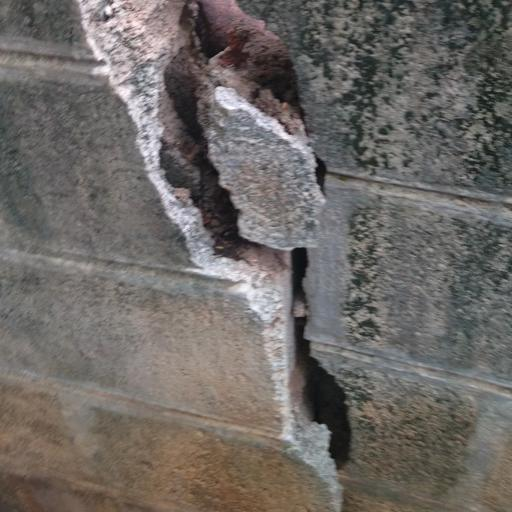major_crack: (75, 0, 388, 482)
